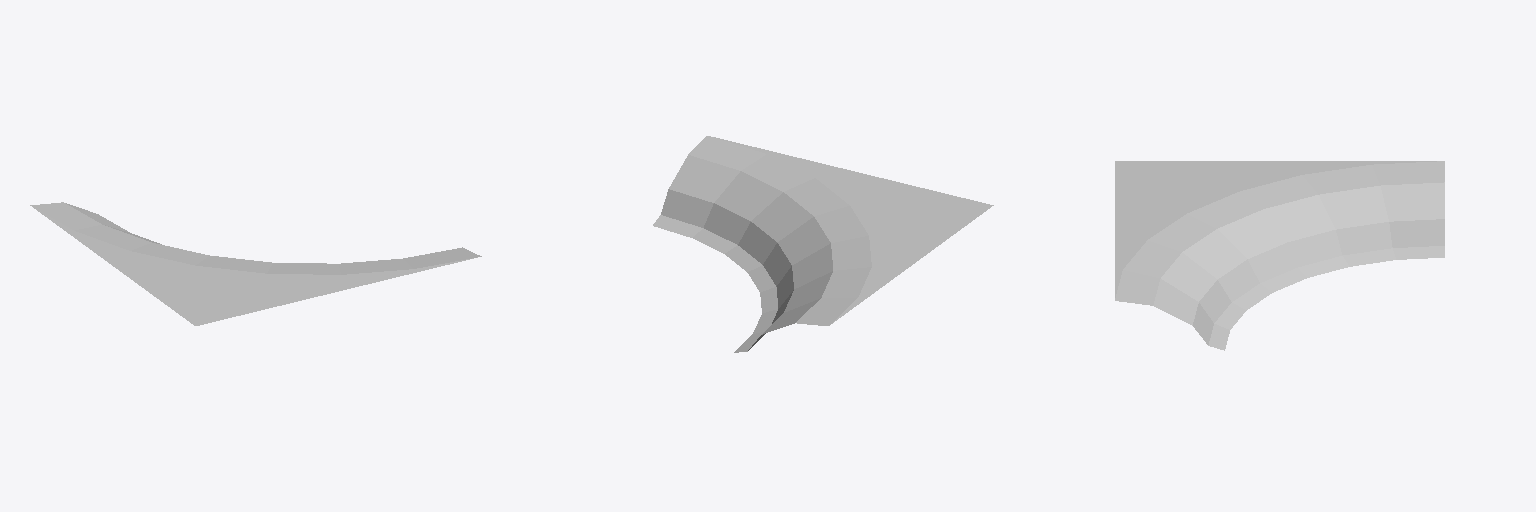
The model's file is Track_Normal_Curve_Outer_3x3.obj.
3 views of the same model, side by side, from view 1: azimuth 30°, elevation 25°; view 2: azimuth 150°, elevation 25°; view 3: azimuth 270°, elevation 25° (orthographic).
Visible parts, largest first — view 1: object1; view 2: object1; view 3: object1.
Part boxes in pixels (x1,y1,x2,y2): object1: (30, 202, 481, 325); object1: (653, 136, 993, 352); object1: (1115, 161, 1444, 350).
Bounding box in the file's own units: 3 × 0.5 × 3.